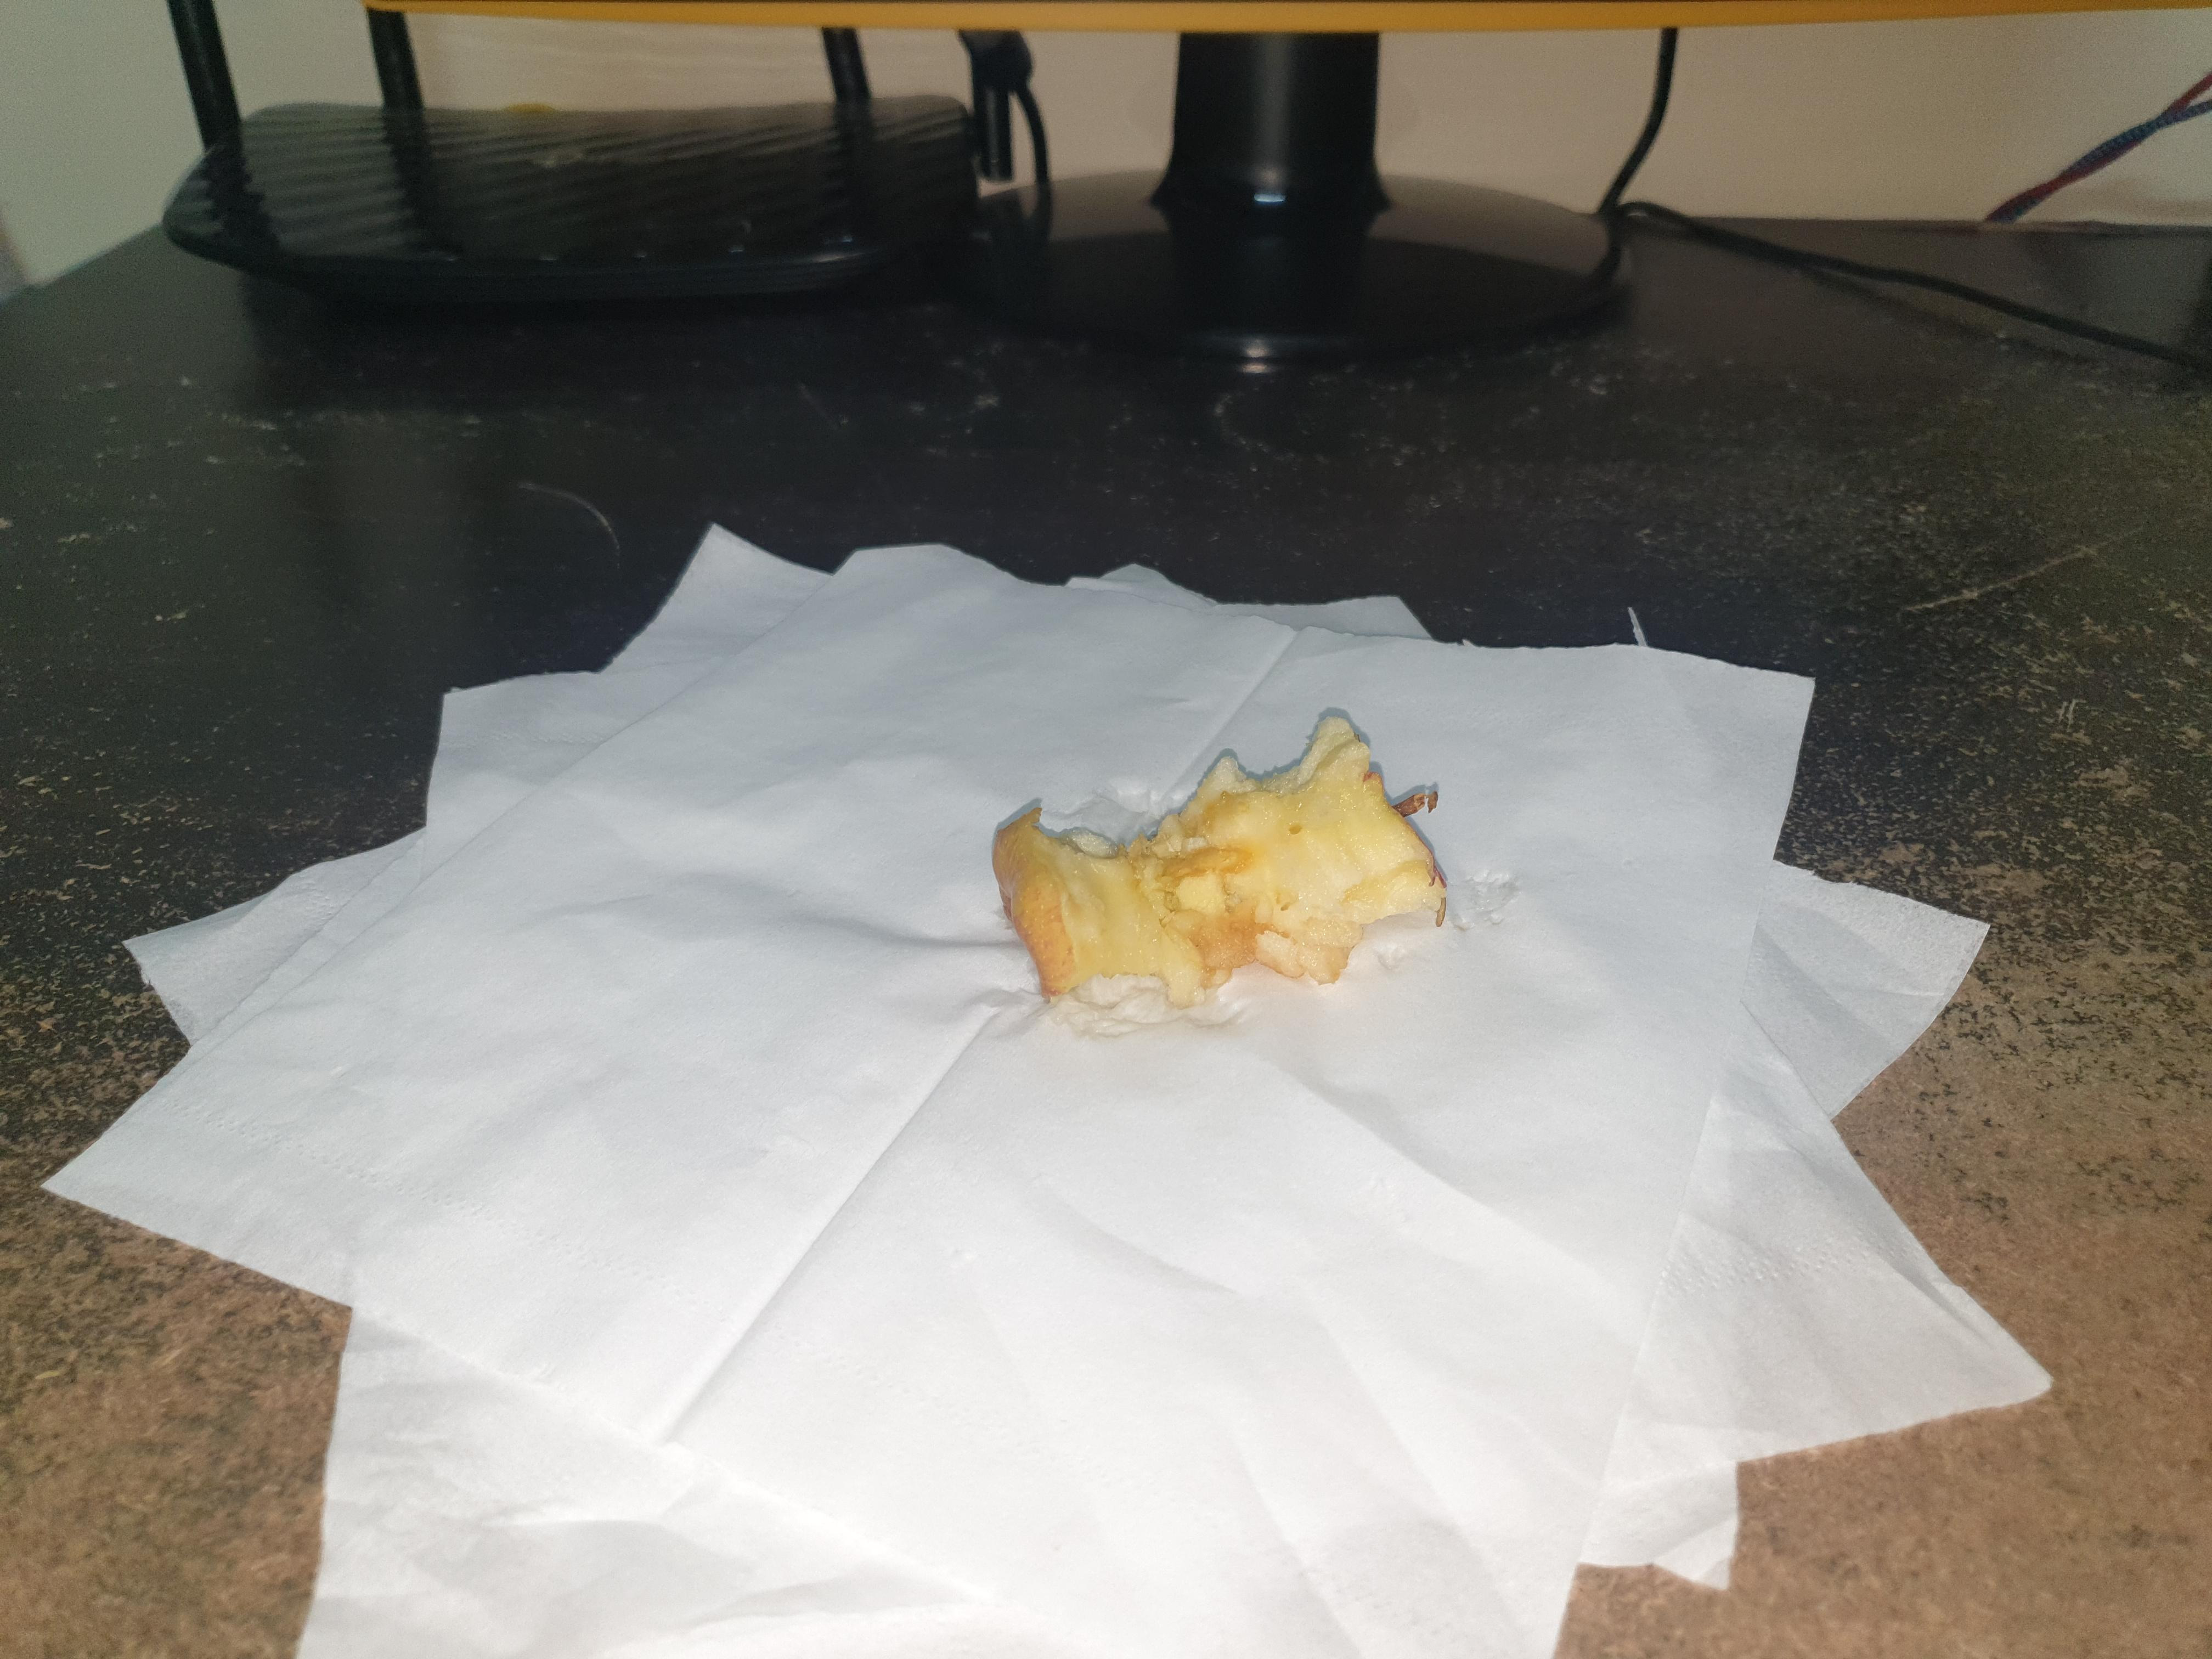Apple: (968, 692, 1468, 1040)
